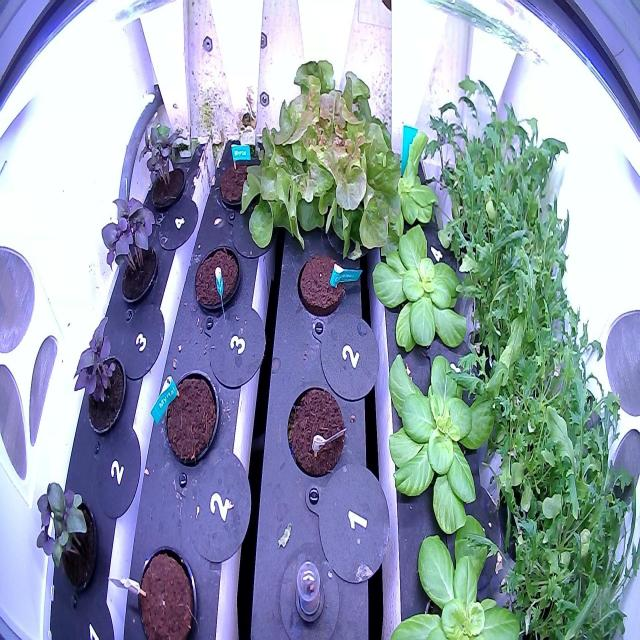pod: (281, 380, 347, 488), (162, 362, 225, 472), (132, 540, 202, 639), (193, 238, 244, 324), (294, 245, 348, 323), (216, 140, 265, 214)
young: (382, 351, 504, 538), (381, 506, 525, 639), (368, 220, 471, 359), (357, 127, 447, 238)
